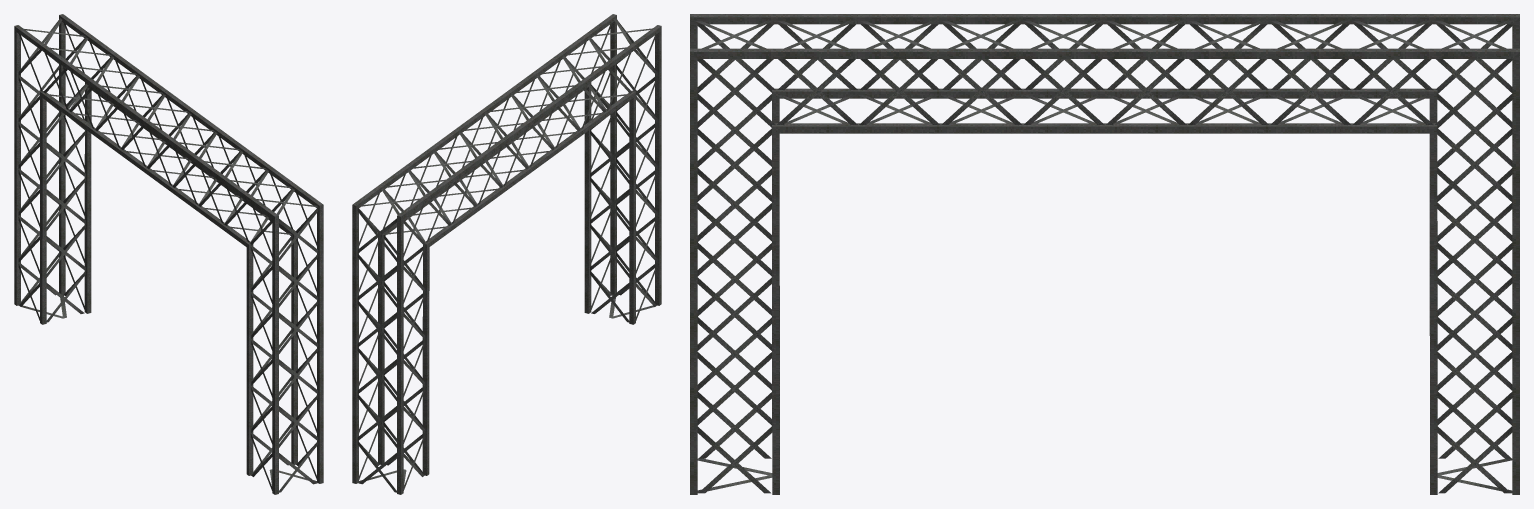
Rendered from des_pipestrut04.obj.
3 renders of one model, left to right at view 1: azimuth 30°, elevation 25°; view 2: azimuth 150°, elevation 25°; view 3: azimuth 270°, elevation 25°, orthographic. The views are drawn at different scales.
Visible parts, largest first — view 1: des_pipestrut04; view 2: des_pipestrut04; view 3: des_pipestrut04.
Boxes of the visible parts, box(x1,y1,x2,y2) form: des_pipestrut04: box(14, 14, 323, 494); des_pipestrut04: box(352, 14, 661, 494); des_pipestrut04: box(690, 14, 1519, 494).
Bounding box in the file's own units: 1.64 × 8.92 × 15.14.
Materials: 3 (3 with a texture image).
